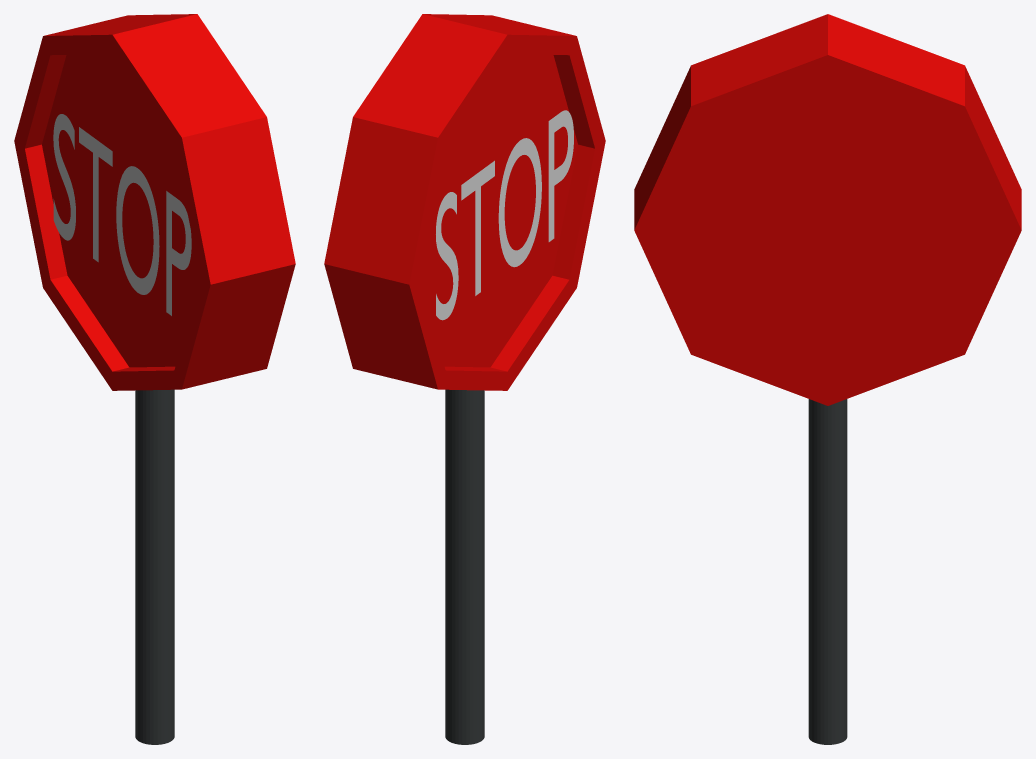
File: stopsign.fbx
3 views of the same model, side by side, from view 1: azimuth 30°, elevation 25°; view 2: azimuth 150°, elevation 25°; view 3: azimuth 270°, elevation 25° (orthographic).
Parts seen in each view (by area): view 1: Cylinder.001, Cylinder, Text; view 2: Cylinder.001, Cylinder, Text; view 3: Cylinder.001, Cylinder.
Boxes of the visible parts, bbox=[...] form: Cylinder.001: bbox=[14, 14, 295, 390]; Cylinder: bbox=[135, 389, 174, 744]; Text: bbox=[53, 114, 191, 315]; Cylinder.001: bbox=[324, 14, 605, 390]; Cylinder: bbox=[445, 389, 484, 744]; Text: bbox=[436, 110, 573, 320]; Cylinder.001: bbox=[634, 14, 1021, 405]; Cylinder: bbox=[808, 399, 847, 744].
Size of the model in its own units: 5 by 40 by 20.
